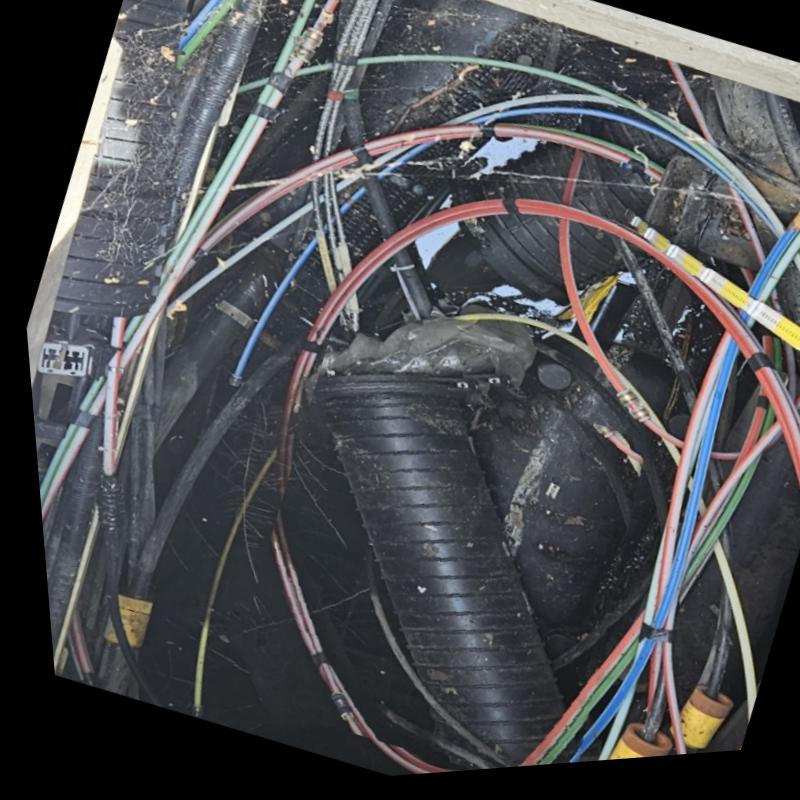NT-Muffen: (298, 379, 557, 776)
